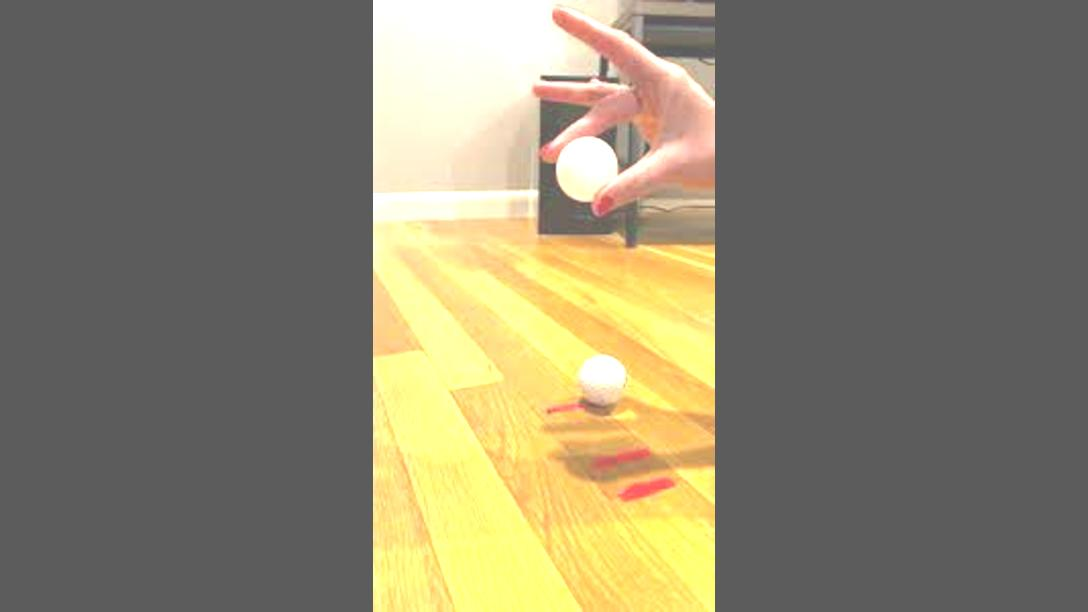Table-Tennis-Ball: (555, 136, 616, 196), (580, 353, 624, 403)
